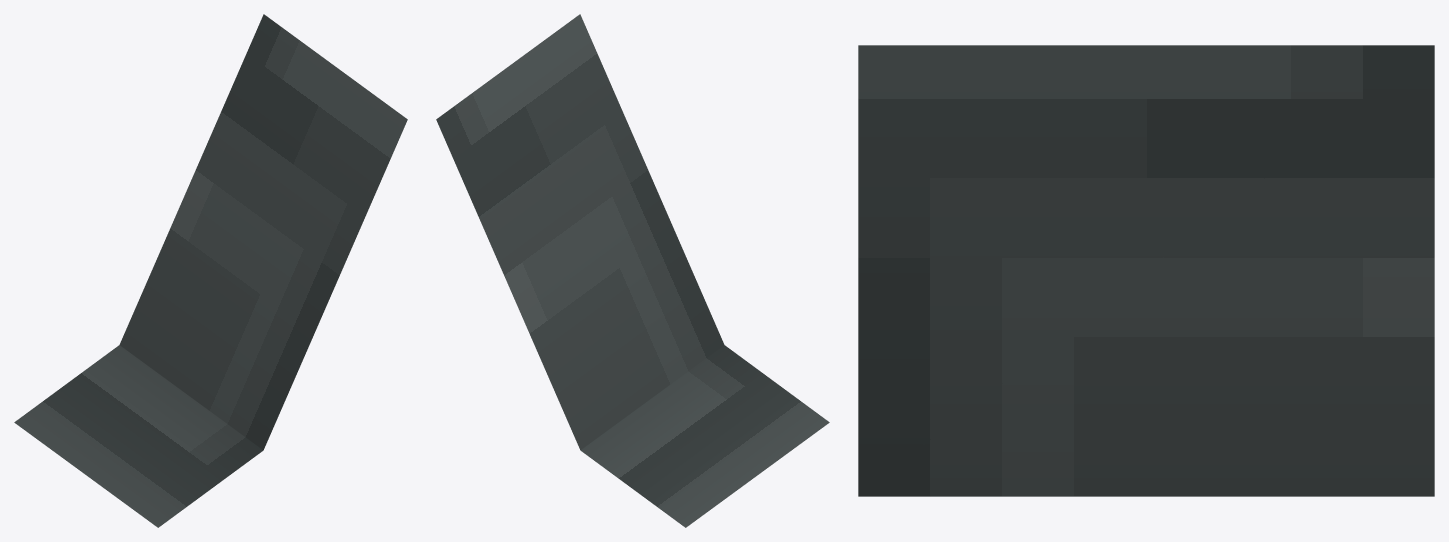
3 views of the same model, side by side, from view 1: azimuth 30°, elevation 25°; view 2: azimuth 150°, elevation 25°; view 3: azimuth 270°, elevation 25° (orthographic). The views are drawn at different scales.
Size of the model in its own units: 0.5 by 0.6652 by 0.5.
1 material, 1 textured.
